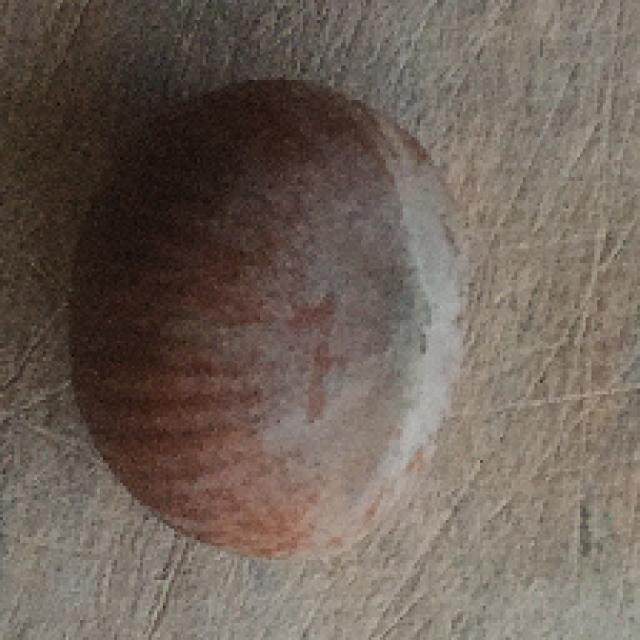QualityHazelnut: (68, 85, 480, 573)
